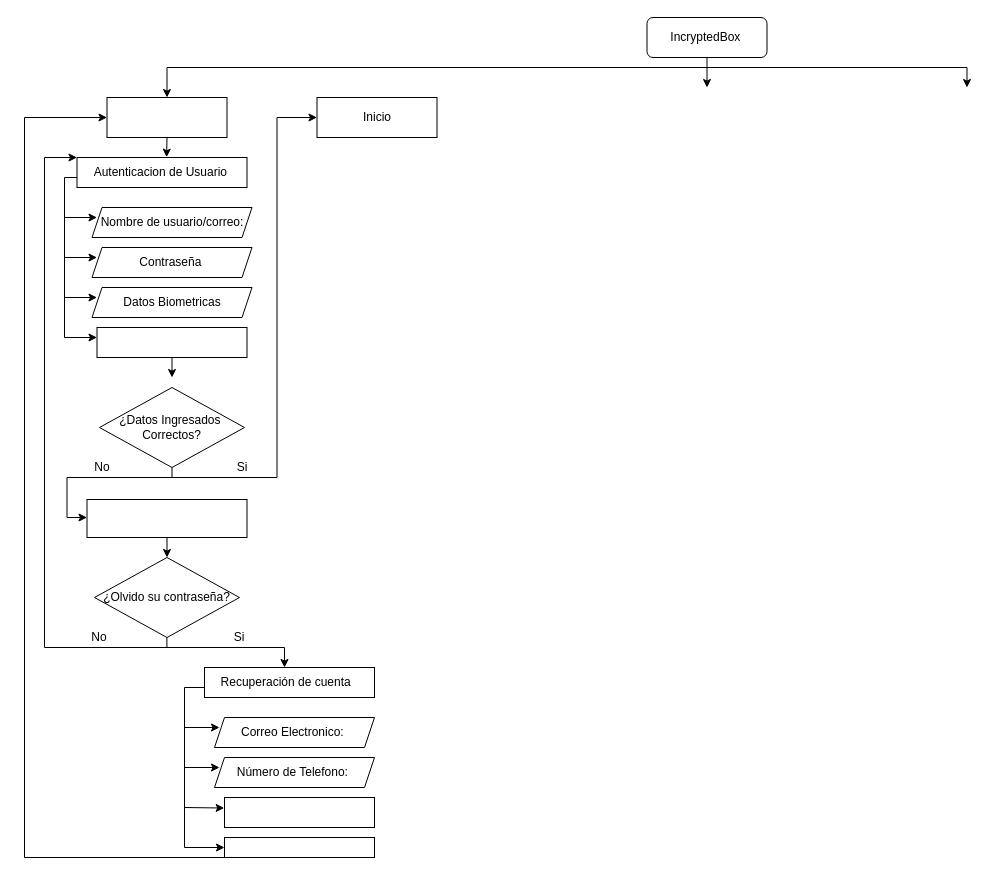
Image size: 993x876. Some labels were removed from this diagram. The centre of each missing label's shape, as x and y in pixels:
Enviar: the point at 299,812
Ingresar: the point at 171,342
Ingreso: the point at 166,117
Mensaje de error: the point at 166,518
Volver: the point at 299,847
